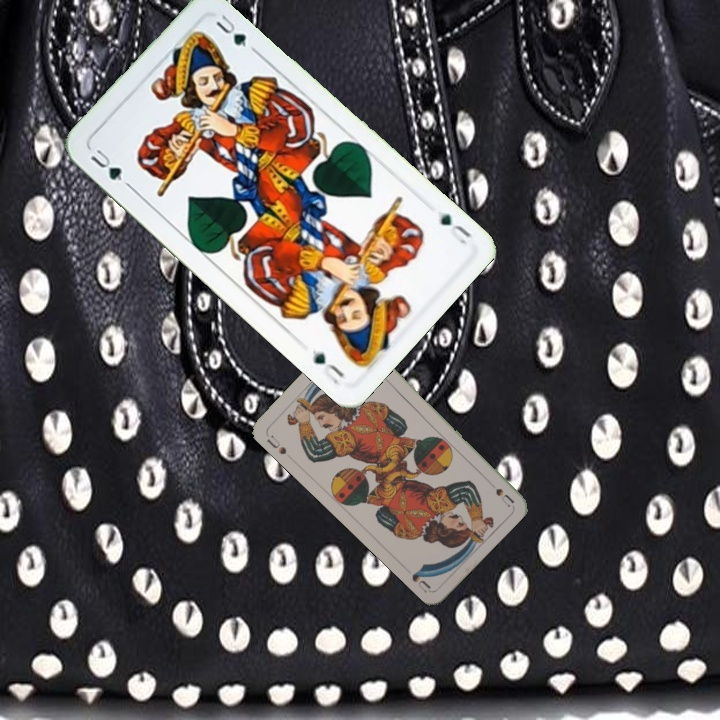GU: (86, 144, 125, 184), (435, 209, 474, 247)
SU: (482, 475, 516, 509), (262, 431, 289, 457)
